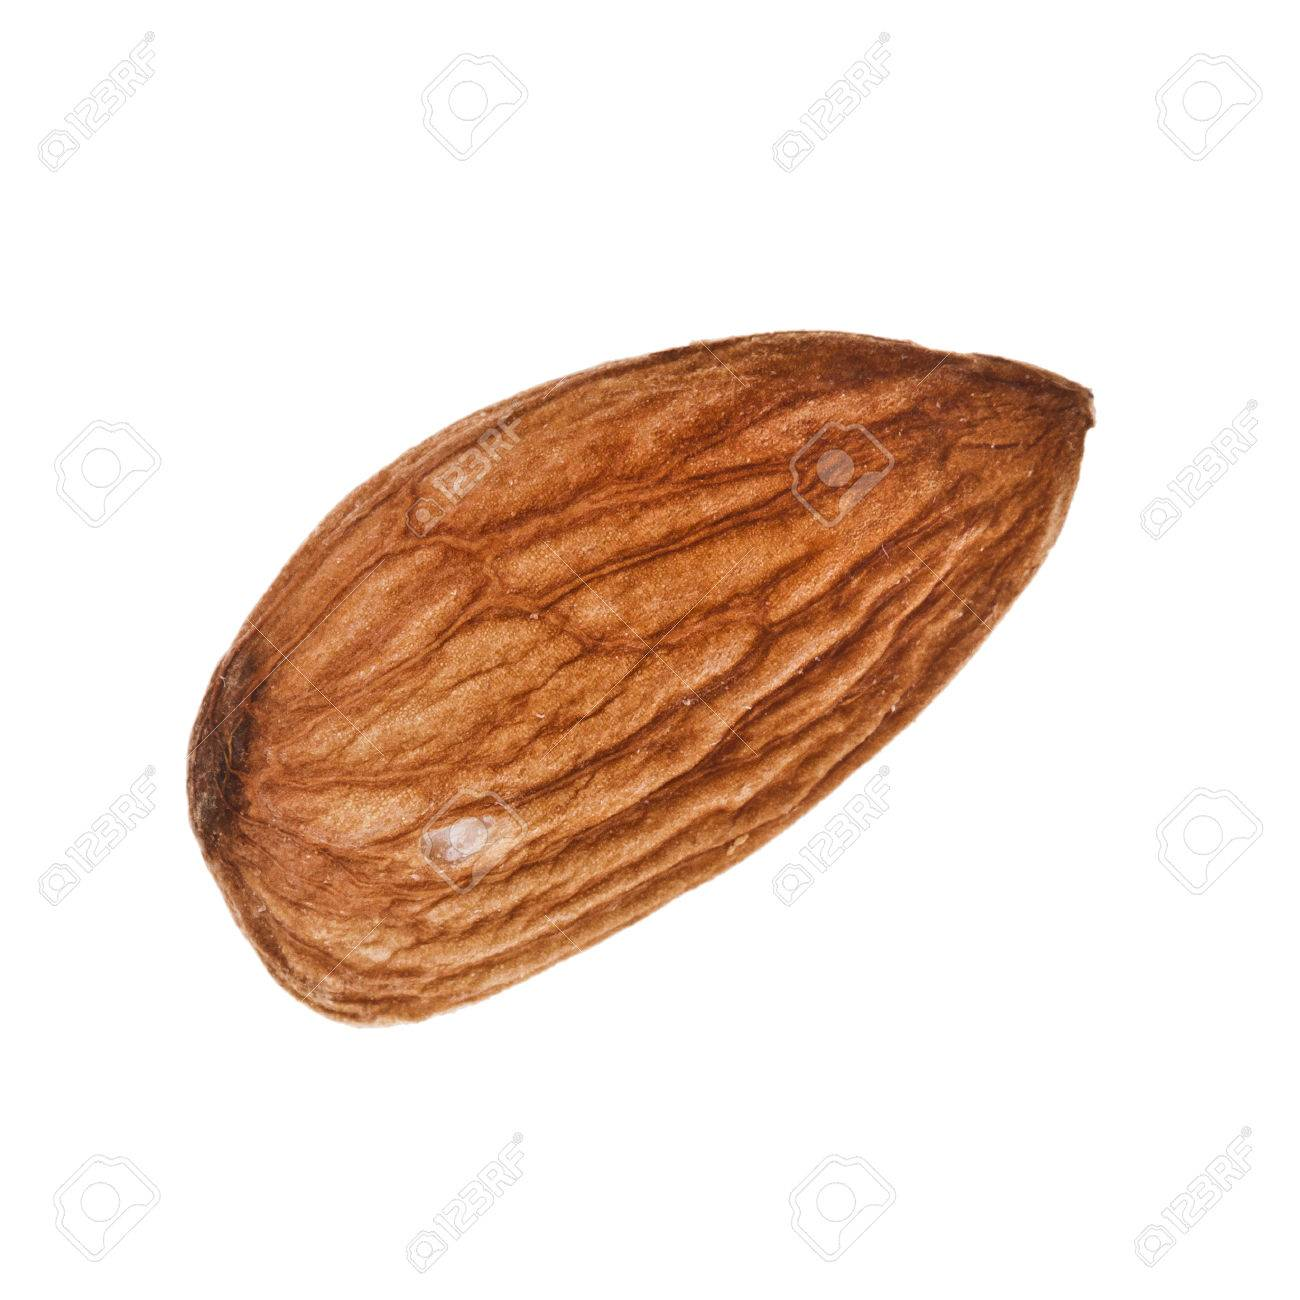almond: (186, 329, 1098, 1032)
